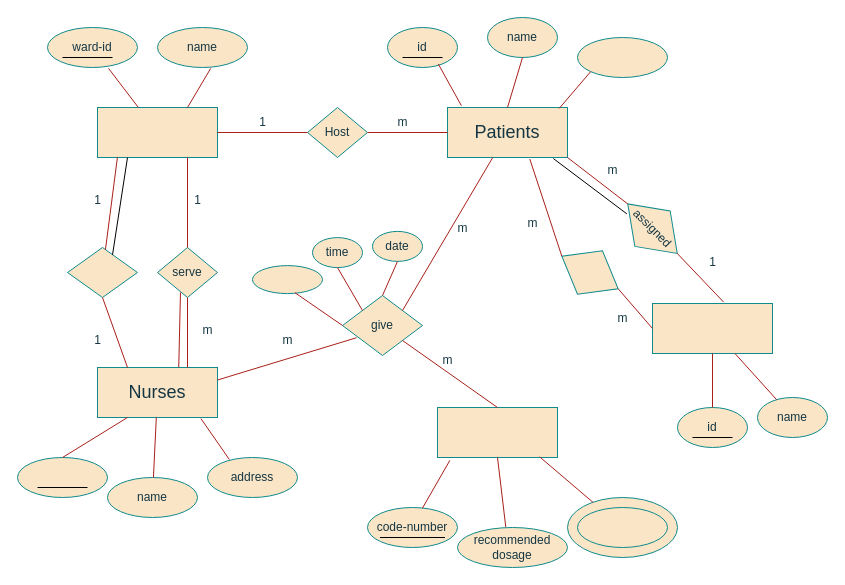
Some shapes in this 845 by 585 pixel diagram are drawn without their labels. Here are the shapes that lost their labels. From the top down, the centre of each, then its label:
point (622, 57): date-of-birth
point (157, 132): Wards
point (102, 272): supervise
point (287, 279): dosage
point (589, 272): examin
point (712, 328): Leading Consultants
point (497, 432): Drugs
point (62, 477): number
point (622, 527): brand name
